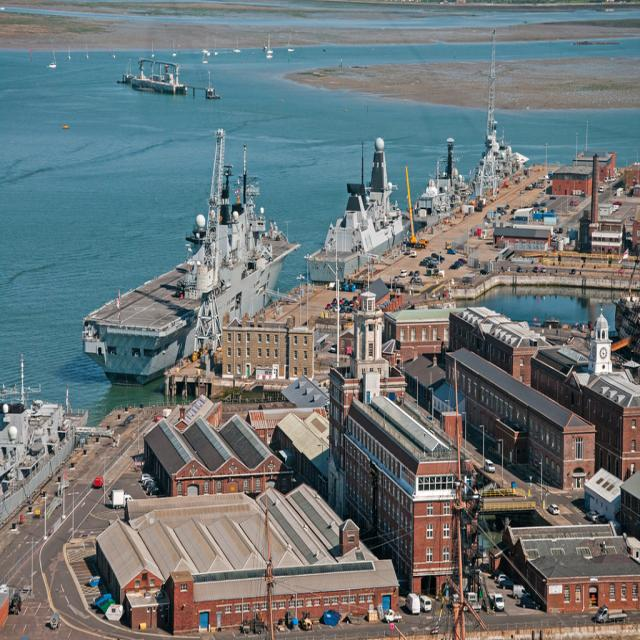Boat: (79, 119, 308, 384), (302, 134, 407, 294), (1, 353, 79, 529), (472, 30, 528, 199), (414, 143, 470, 237), (44, 47, 57, 71), (287, 31, 296, 55)
